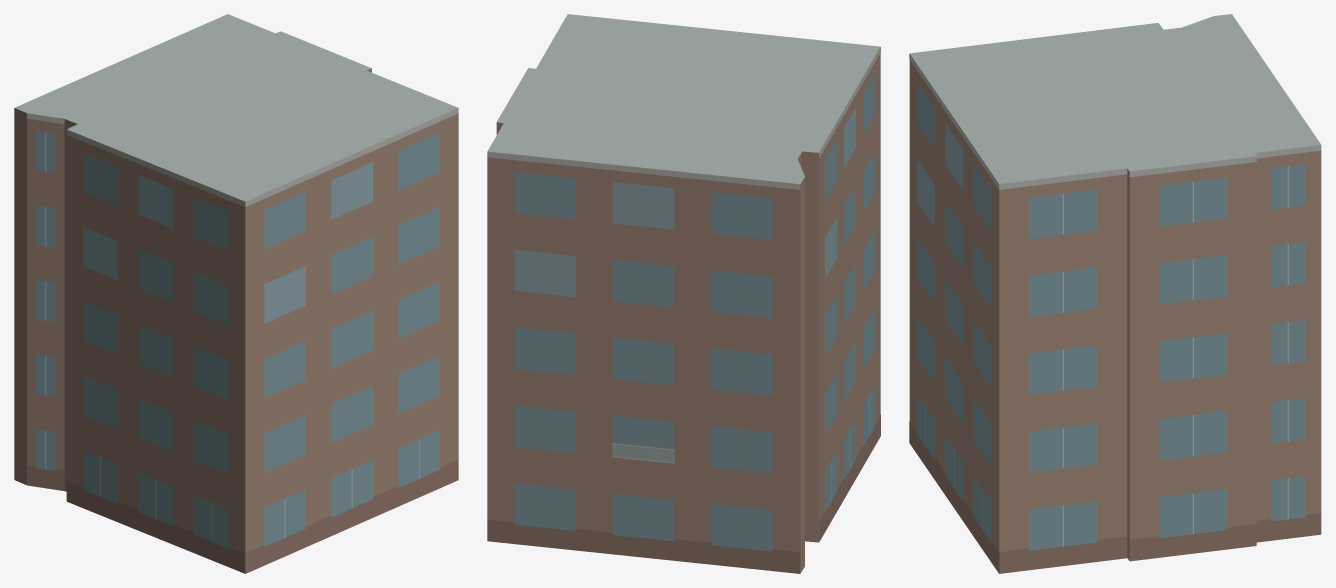
Rendered from survey-upis-32859030.glb.
3 renders of one model, left to right at view 1: azimuth 30°, elevation 25°; view 2: azimuth 150°, elevation 25°; view 3: azimuth 270°, elevation 25°, orthographic. The views are drawn at different scales.
Parts seen in each view (by area): view 1: survey-upis-32859030.tmp; view 2: survey-upis-32859030.tmp; view 3: survey-upis-32859030.tmp.
Part boxes in pixels (x1,y1,x2,y2): survey-upis-32859030.tmp: (14,14,458,573); survey-upis-32859030.tmp: (487,14,880,573); survey-upis-32859030.tmp: (909,14,1321,573).
Size of the model in its own units: 15.51 by 16.55 by 15.86.
